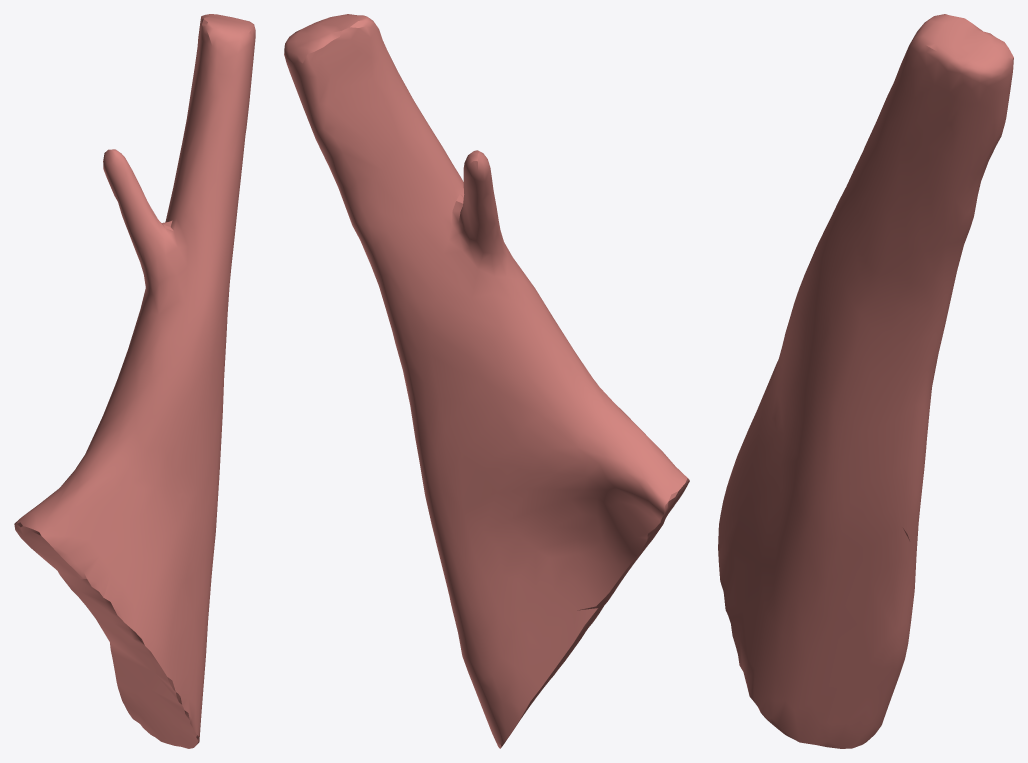
The model's file is fma65193_mm1857.glb.
The picture shows the model from 3 angles, left to right: view 1: azimuth 30°, elevation 25°; view 2: azimuth 150°, elevation 25°; view 3: azimuth 270°, elevation 25°; orthographic projection. The views are drawn at different scales.
Visible parts, largest first — view 1: FMA65193_MM1857; view 2: FMA65193_MM1857; view 3: FMA65193_MM1857.
Boxes of the visible parts, x1,y1,x2,y2 form: FMA65193_MM1857: (14, 14, 255, 748); FMA65193_MM1857: (284, 14, 689, 748); FMA65193_MM1857: (718, 14, 1013, 748).
Size of the model in its own units: 0.0424 by 0.0926 by 0.0317.
